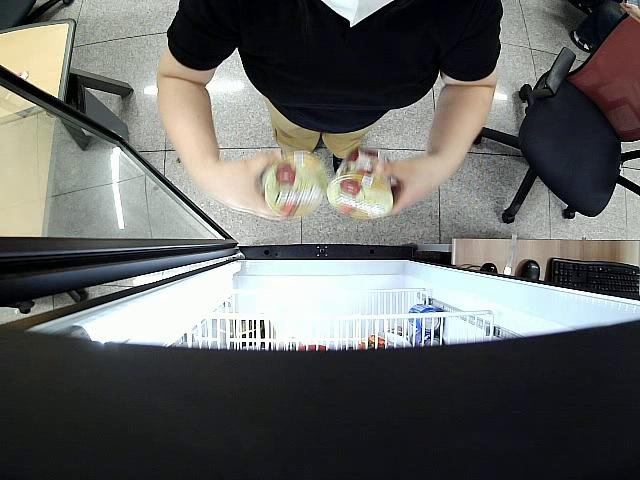00_hand: (215, 148, 289, 223), (374, 156, 443, 215)
04_chapagetti_S: (325, 147, 395, 221), (260, 153, 327, 217)
